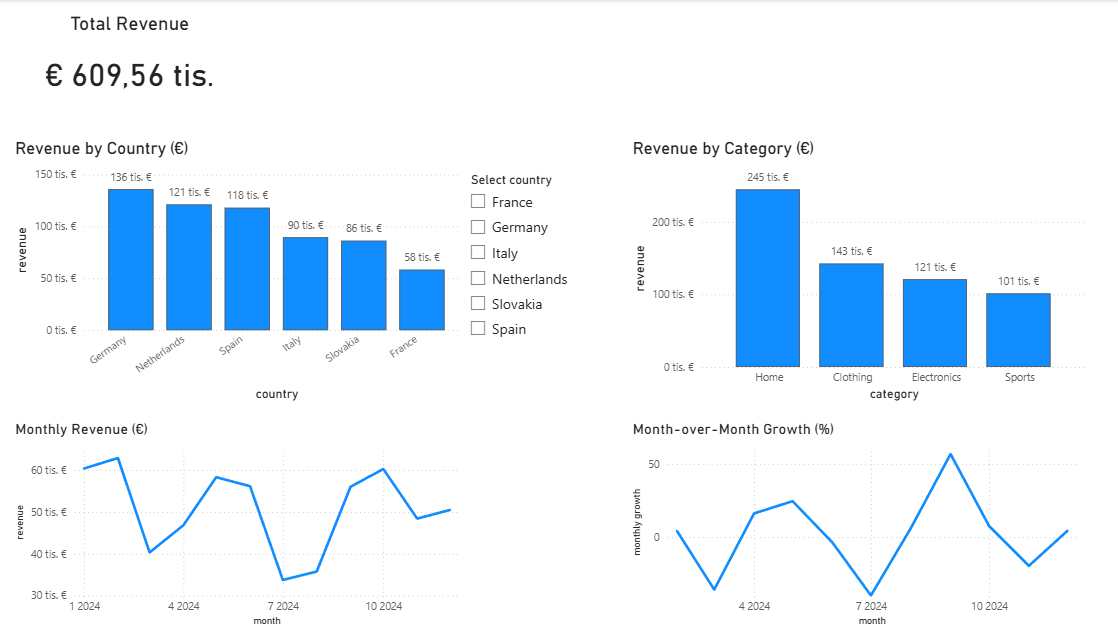

The page's visual inventory and layout, read from the dashboard file:
{"tool":"powerbi","page":{"name":"Strana 1","canvas":[1280,720],"ordinal":0},"visuals":[{"type":"card","title":"Total Revenue","fields":{"Values":["Sum(country_revenue.country_revenue)"]},"box":[32,16,240,112],"z":0},{"type":"columnChart","title":"Revenue by Country (€)","fields":{"Category":["country_revenue.country"],"Y":["Sum(country_revenue.country_revenue)"]},"box":[16,160,528,304],"z":1000},{"type":"columnChart","title":"Revenue by Category (€)","fields":{"Category":["category_revenue.category"],"Y":["Sum(category_revenue.category_revenue)"]},"box":[720,160,528,304],"z":2000},{"type":"lineChart","title":"Monthly Revenue (€)","fields":{"Y":["Sum(monthly_revenue.monthly_revenue)"],"Category":["monthly_revenue.month"]},"box":[16,480,528,240],"z":4000},{"type":"lineChart","title":"Month-over-Month Growth (%)","fields":{"Y":["Sum(mom_growth.mom_growth)"],"Category":["mom_growth.month"]},"box":[720,480,528,240],"z":5000},{"type":"slicer","fields":{"Values":["country_revenue.country"]},"box":[528,192,144,208],"z":5001}]}

Visuals, with their boxes in screenshot pixels (x1, y1, x2, y2), scaled from the page's 1280x720 canvas onto the 1118x628 screenshot:
"Total Revenue" card: Rect(28, 14, 238, 112)
"Revenue by Country (€)" columnChart: Rect(14, 140, 475, 405)
"Revenue by Category (€)" columnChart: Rect(629, 140, 1090, 405)
"Monthly Revenue (€)" lineChart: Rect(14, 419, 475, 627)
"Month-over-Month Growth (%)" lineChart: Rect(629, 419, 1090, 627)
slicer - country_revenue.country: Rect(461, 167, 587, 349)
